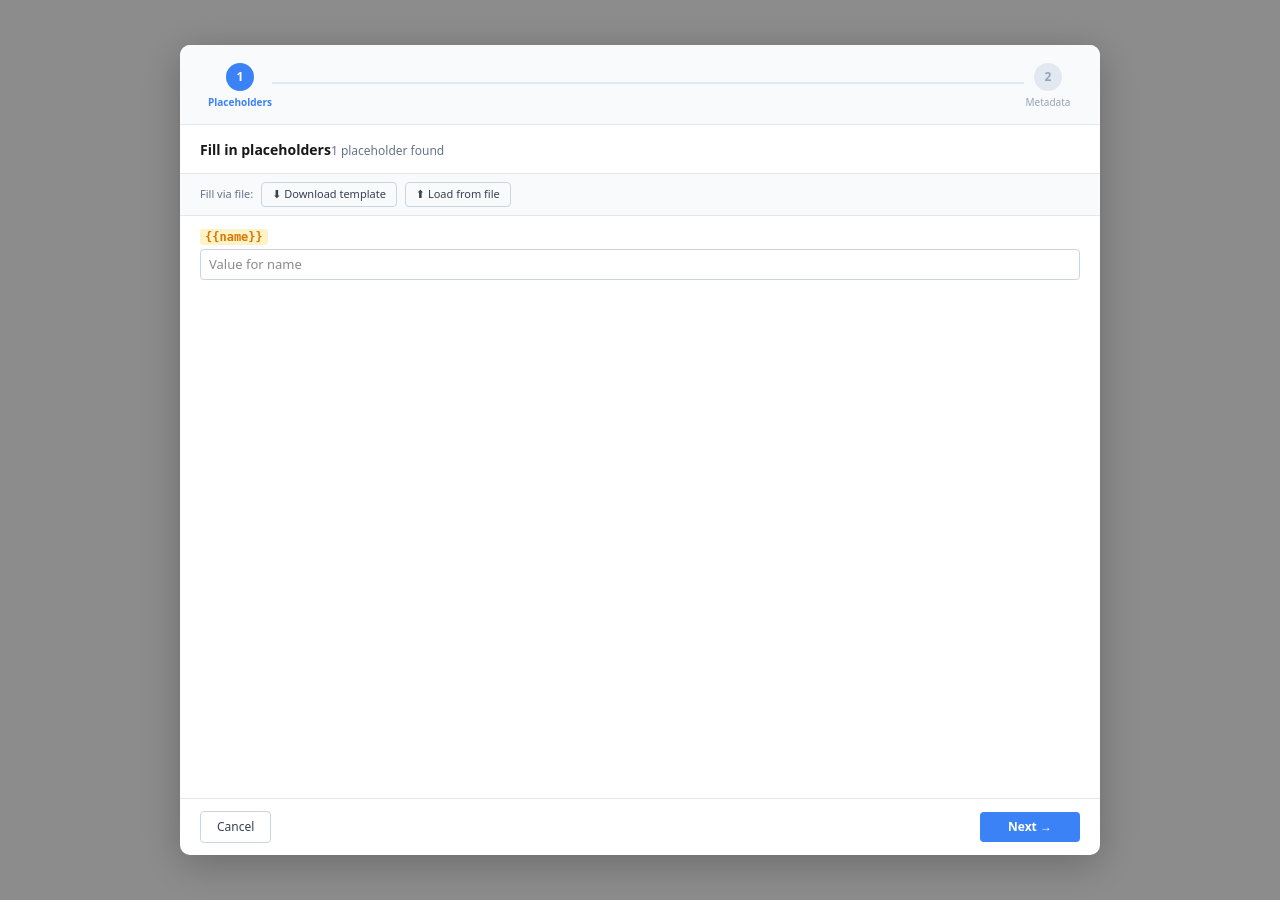
ExportWizardModal (index) › navigates forward on Next click
Click the button "Next →".
click(1030, 827)  # box [980, 812, 1080, 842]
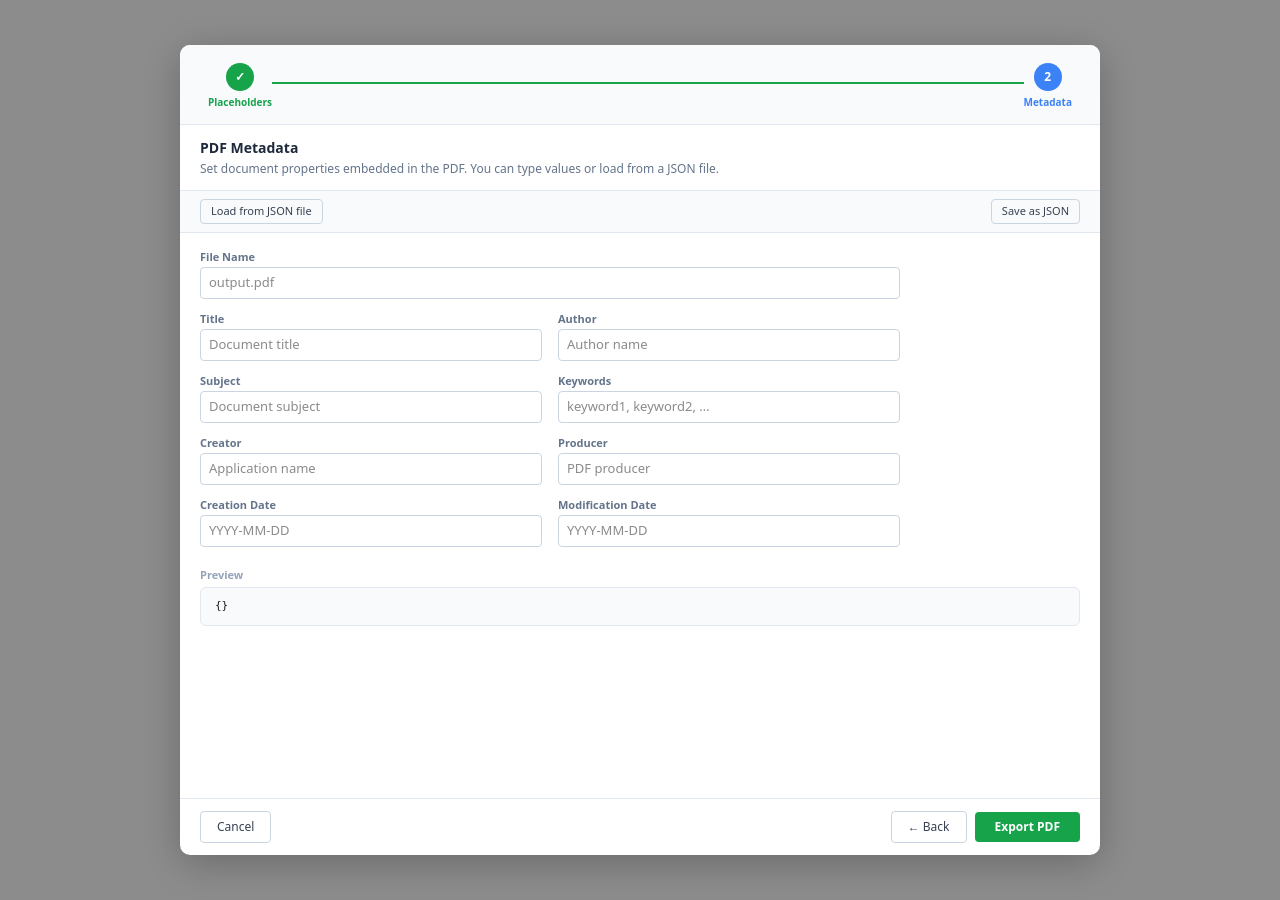
Expected: the text "Export PDF" is shown, [974, 812, 1080, 842]
